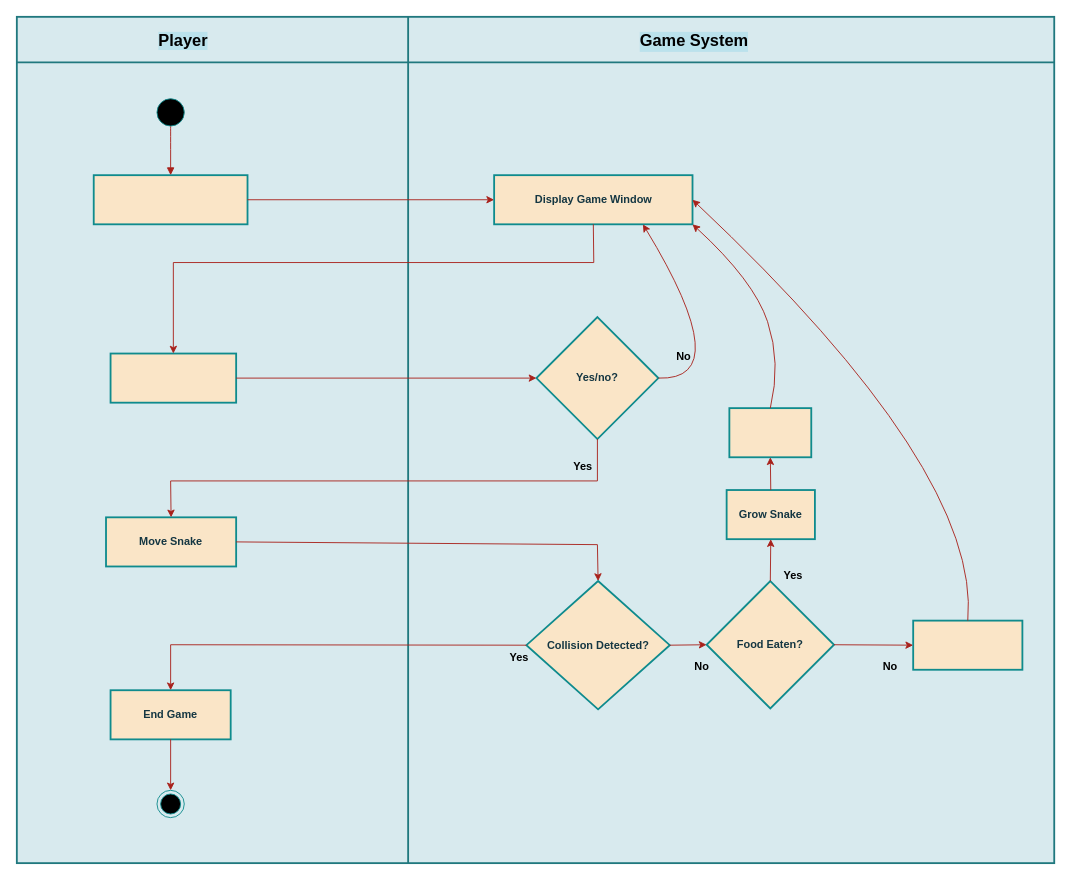
This 1070x879 diagram has some shape labels left out. Here are the shapes that lost their labels. From the top down, the centre of each, then its label:
(x=170, y=199): Initialize Game
(x=173, y=377): User Input
(x=770, y=432): Spawn New Food
(x=967, y=644): Update Snake Position
